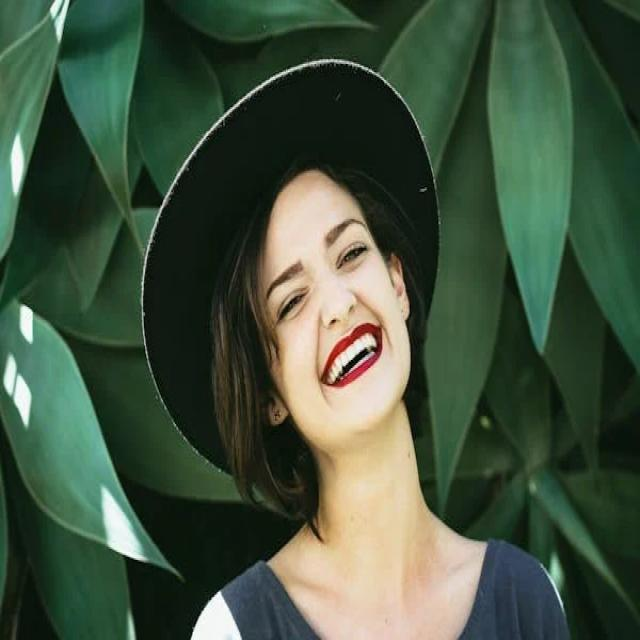no_mask: (232, 159, 425, 466)
